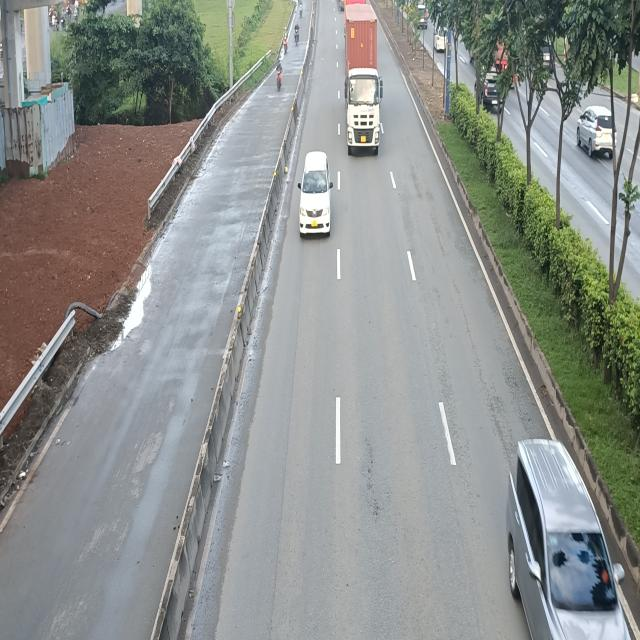car: (300, 149, 336, 237)
container: (342, 1, 382, 155)
